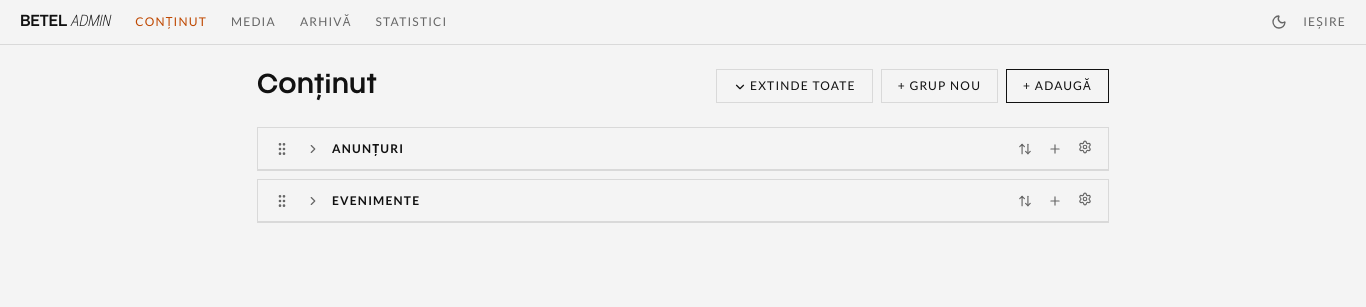
Test case: Expand a single group › shows the item list when expanded
Click the button with test id "collapse-toggle-g1" at [313, 149], box x1=302 y1=138 x2=324 y2=160
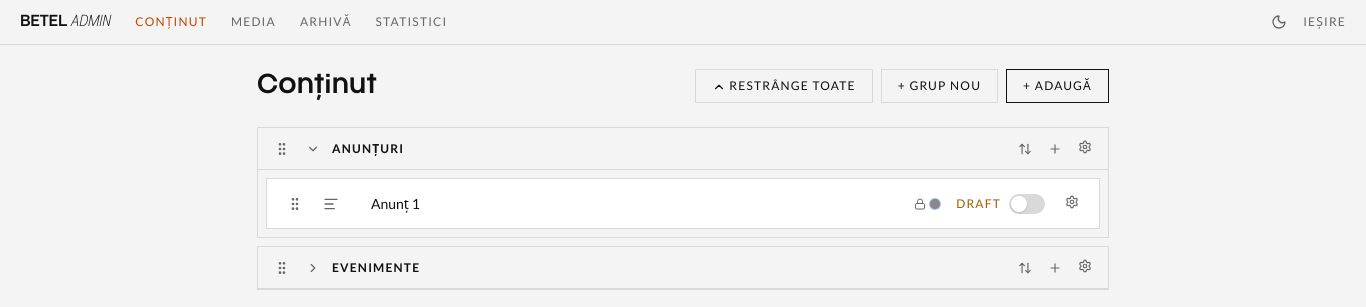
Check: the list with test id "container-g1" is shown, box x1=258 y1=170 x2=1108 y2=237
Check: the list item with test id "content-row-i1" is shown, box x1=266 y1=178 x2=1100 y2=229
